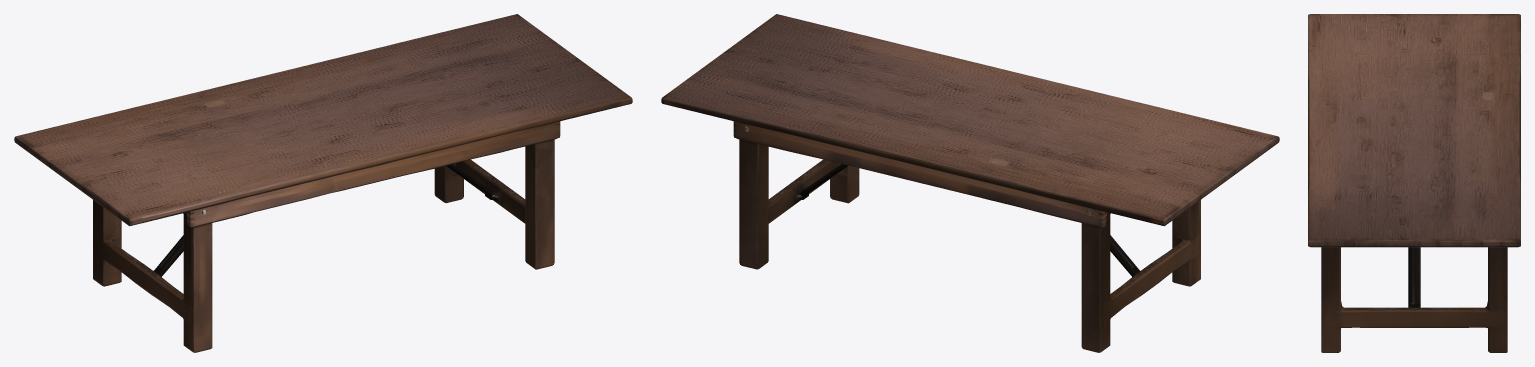
The model's file is Harvest_Farm_Table_40_0621001619_texture.glb.
3 renders of one model, left to right at view 1: azimuth 30°, elevation 25°; view 2: azimuth 150°, elevation 25°; view 3: azimuth 270°, elevation 25°, orthographic. The views are drawn at different scales.
Parts seen in each view (by area): view 1: Mesh_0.001; view 2: Mesh_0.001; view 3: Mesh_0.001.
Part boxes in pixels (left/top/right/bottom): Mesh_0.001: left=14, top=14, right=632, bottom=352; Mesh_0.001: left=661, top=14, right=1279, bottom=352; Mesh_0.001: left=1308, top=14, right=1520, bottom=352.
Size of the model in its own units: 2.39 by 0.7112 by 0.9466.
Materials: 1 (1 with a texture image).
